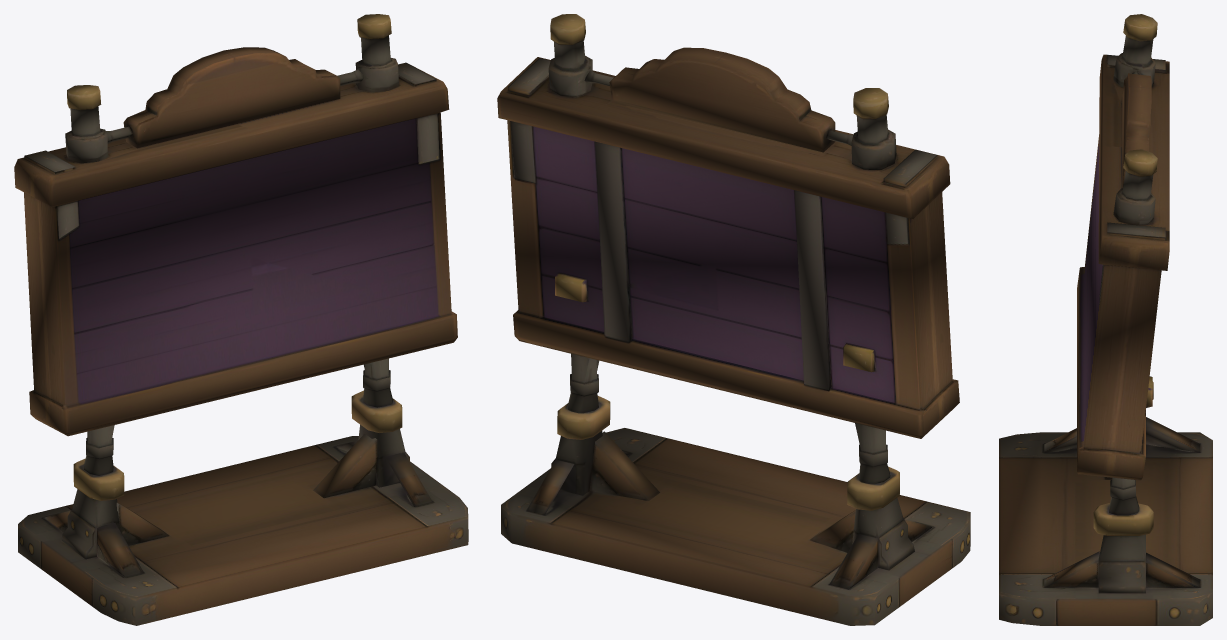
The model's file is wooden+sign+3d+model.obj.
3 renders of one model, left to right at view 1: azimuth 30°, elevation 25°; view 2: azimuth 150°, elevation 25°; view 3: azimuth 270°, elevation 25°, orthographic. The views are drawn at different scales.
Parts seen in each view (by area): view 1: tripo_node_cbd90301-c365-4347-bb8e-cfeebc9b6b7d; view 2: tripo_node_cbd90301-c365-4347-bb8e-cfeebc9b6b7d; view 3: tripo_node_cbd90301-c365-4347-bb8e-cfeebc9b6b7d.
Part boxes in pixels (left/top/right/bottom): tripo_node_cbd90301-c365-4347-bb8e-cfeebc9b6b7d: left=14, top=14, right=468, bottom=625; tripo_node_cbd90301-c365-4347-bb8e-cfeebc9b6b7d: left=497, top=14, right=970, bottom=625; tripo_node_cbd90301-c365-4347-bb8e-cfeebc9b6b7d: left=999, top=14, right=1212, bottom=625.
Size of the model in its own units: 0.8691 by 0.998 by 0.4238.
1 material, 1 textured.
